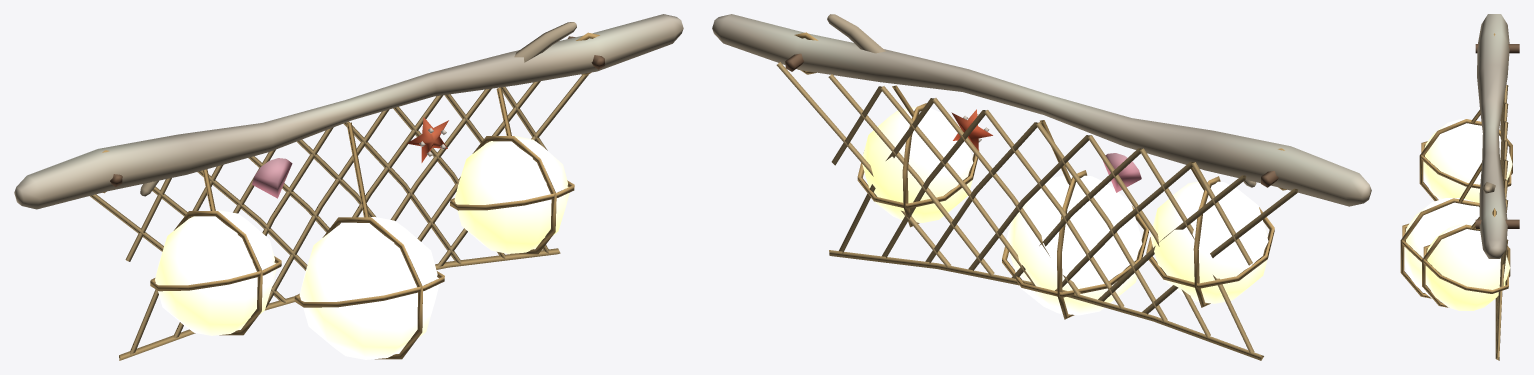
The model's file is furn-glassFloats.glb.
3 views of the same model, side by side, from view 1: azimuth 30°, elevation 25°; view 2: azimuth 150°, elevation 25°; view 3: azimuth 270°, elevation 25° (orthographic). The views are drawn at different scales.
Parts seen in each view (by area): view 1: furn-glassFloats; view 2: furn-glassFloats; view 3: furn-glassFloats.
Boxes of the visible parts, left/top/right/bottom form: furn-glassFloats: left=14, top=14, right=683, bottom=360; furn-glassFloats: left=712, top=14, right=1371, bottom=360; furn-glassFloats: left=1400, top=14, right=1519, bottom=360.
Bounding box in the file's own units: 0.9097 × 0.3479 × 0.19.
